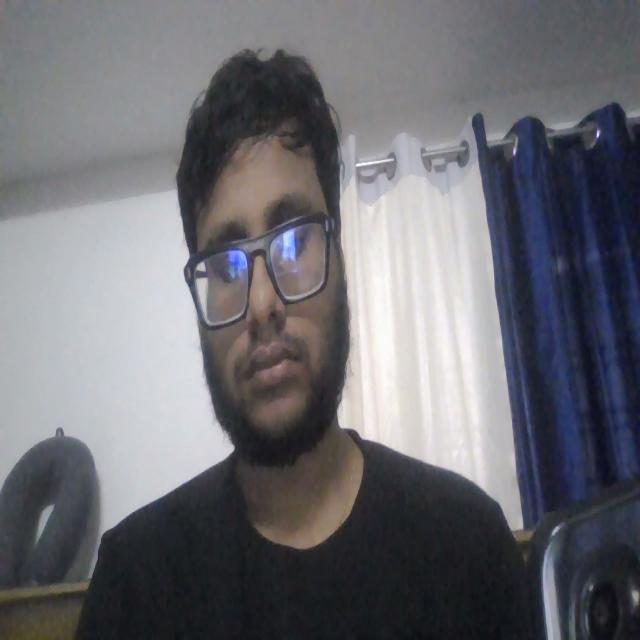phone: (525, 485, 638, 640)
